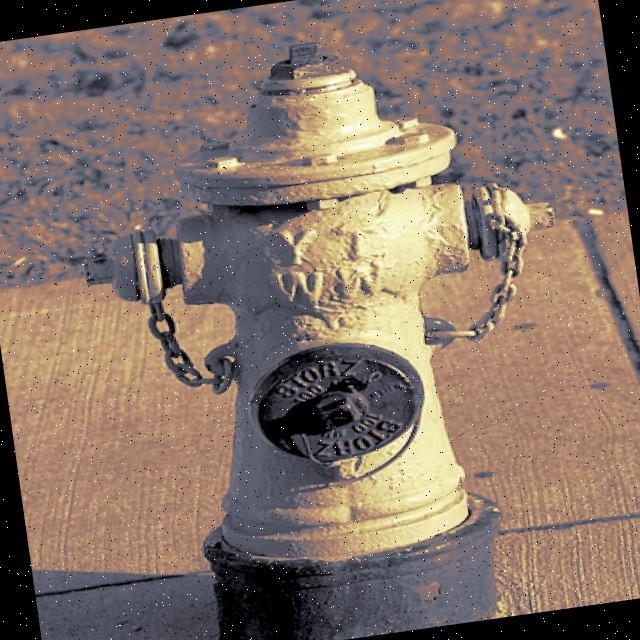fire_hydrant: (53, 7, 610, 640)
